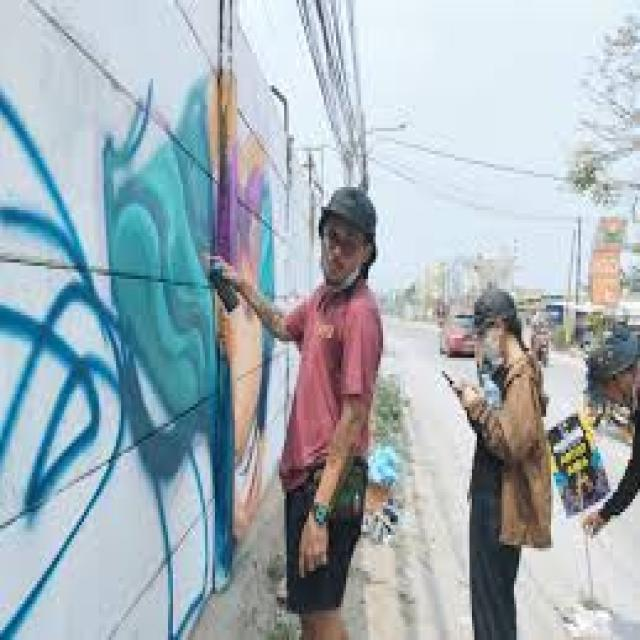-: (0, 71, 280, 640)
